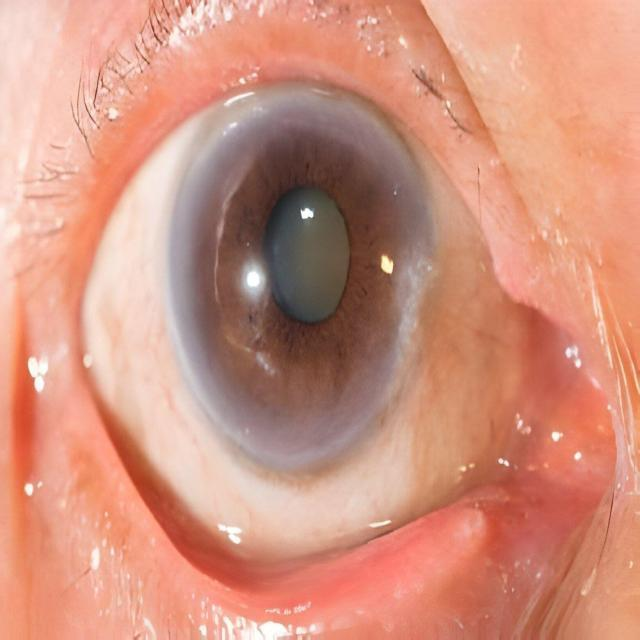Cataract: (164, 84, 433, 455)
